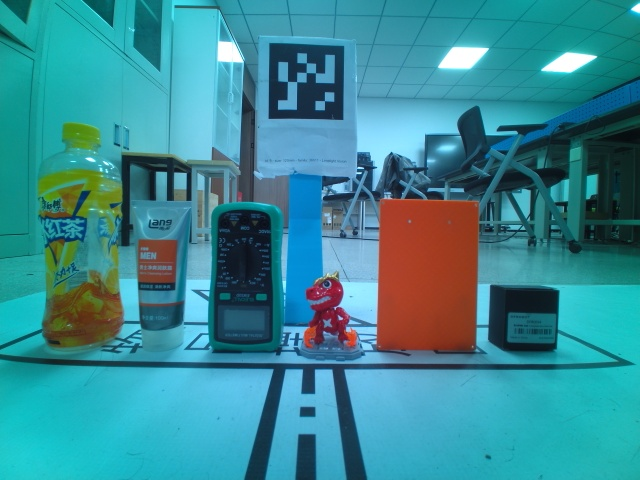banzi: (489, 284, 559, 353)
binghongcha: (297, 270, 364, 361)
dabao: (129, 198, 193, 352)
dianbiao: (37, 122, 124, 355)
hezi: (208, 202, 285, 352)
long: (377, 197, 478, 354)
